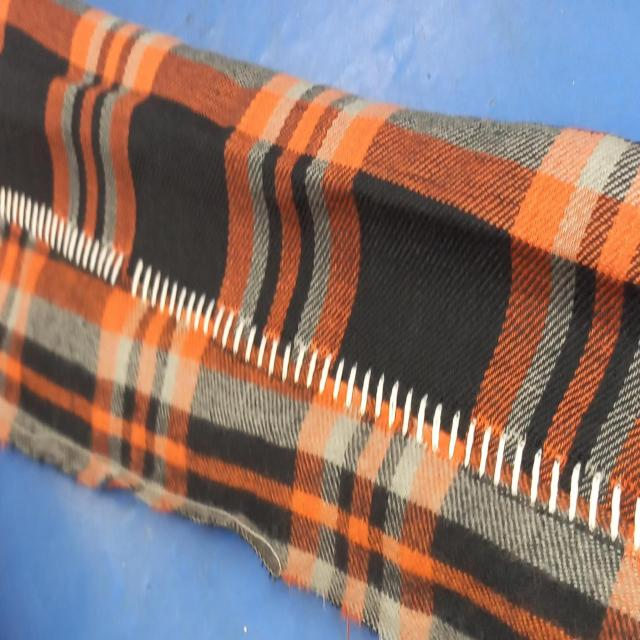gray stitch: (332, 360, 619, 516), (139, 258, 326, 387), (1, 179, 124, 278)
